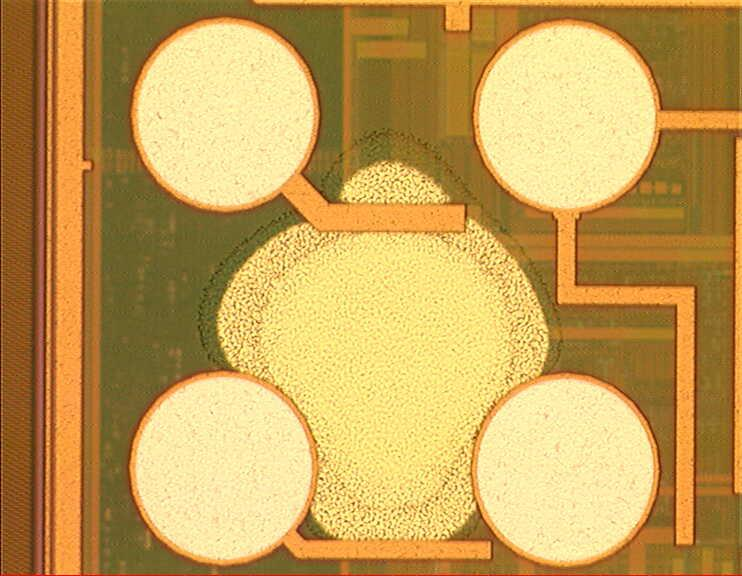BLOCK ETCH: (191, 128, 566, 573)
